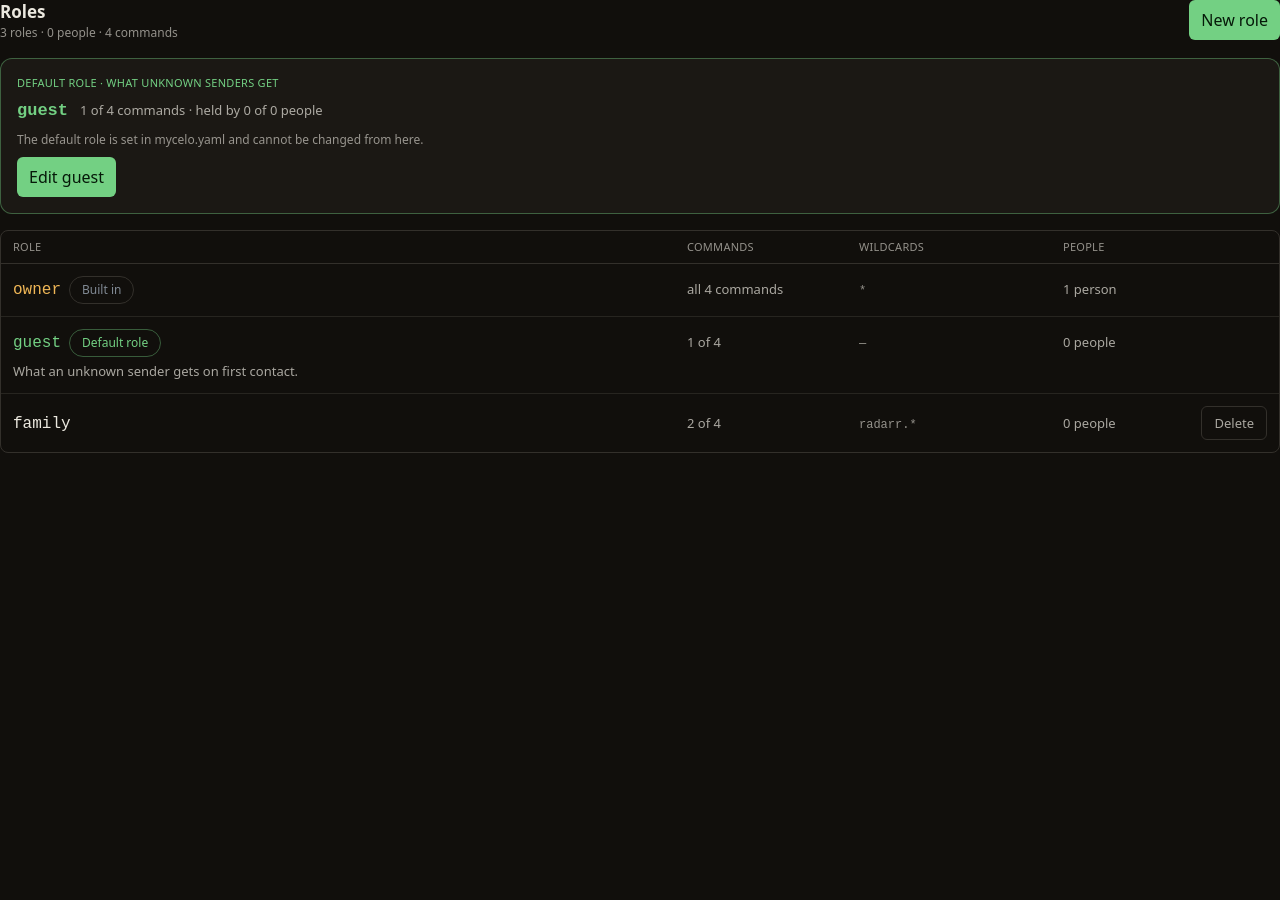
it: the roles list › creates a role with the name typed, then lists it
The width and height of the screenshot is (1280, 900).
Check: the list item with test id "role-owner" is shown, box top-left (1, 264), bottom-right (1279, 317)
Click the button "New role".
click(1235, 20)  # box top-left (1189, 0), bottom-right (1279, 40)
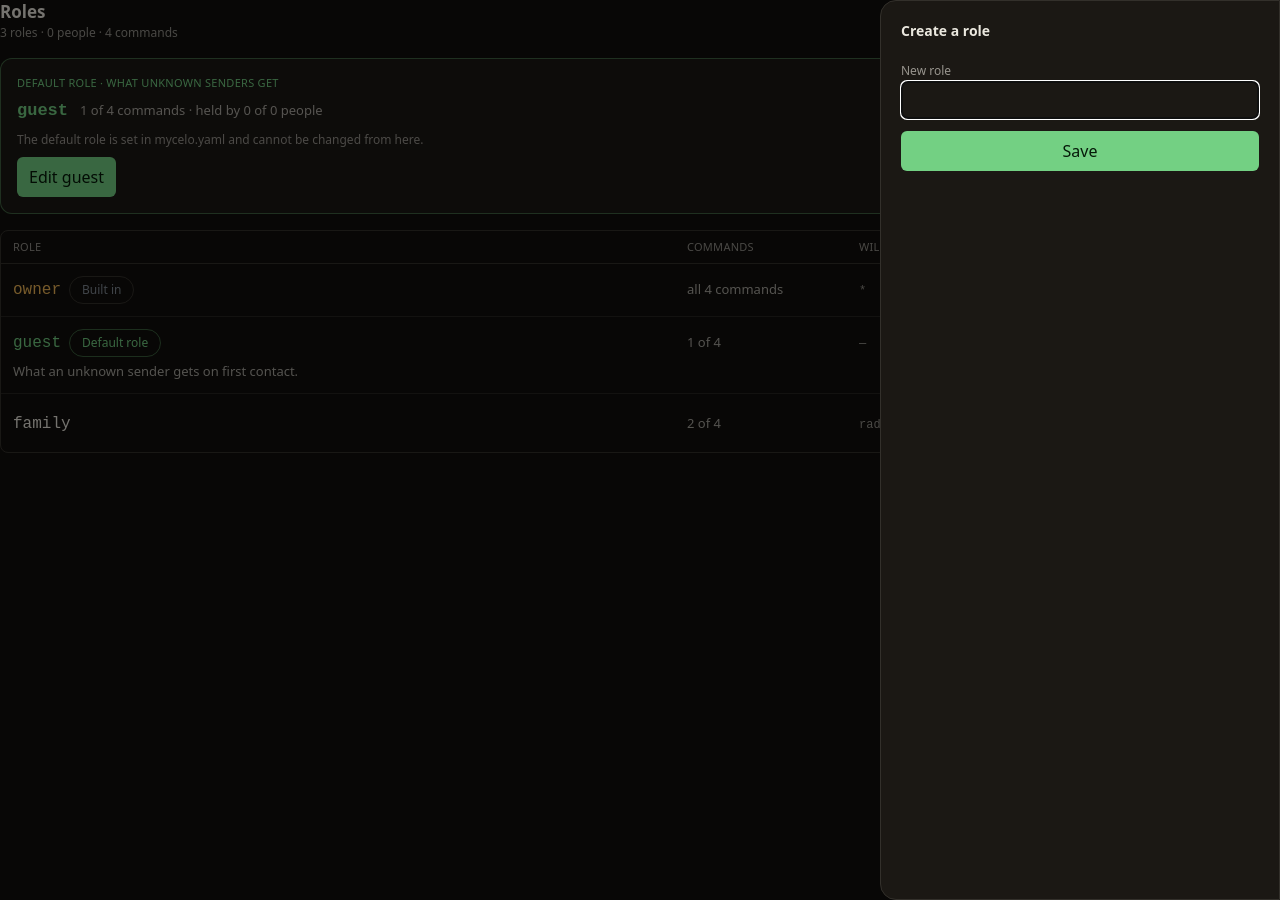
Type "media" into the field labelled "New role".
click(1080, 100); type("media")  # box top-left (901, 81), bottom-right (1259, 119)
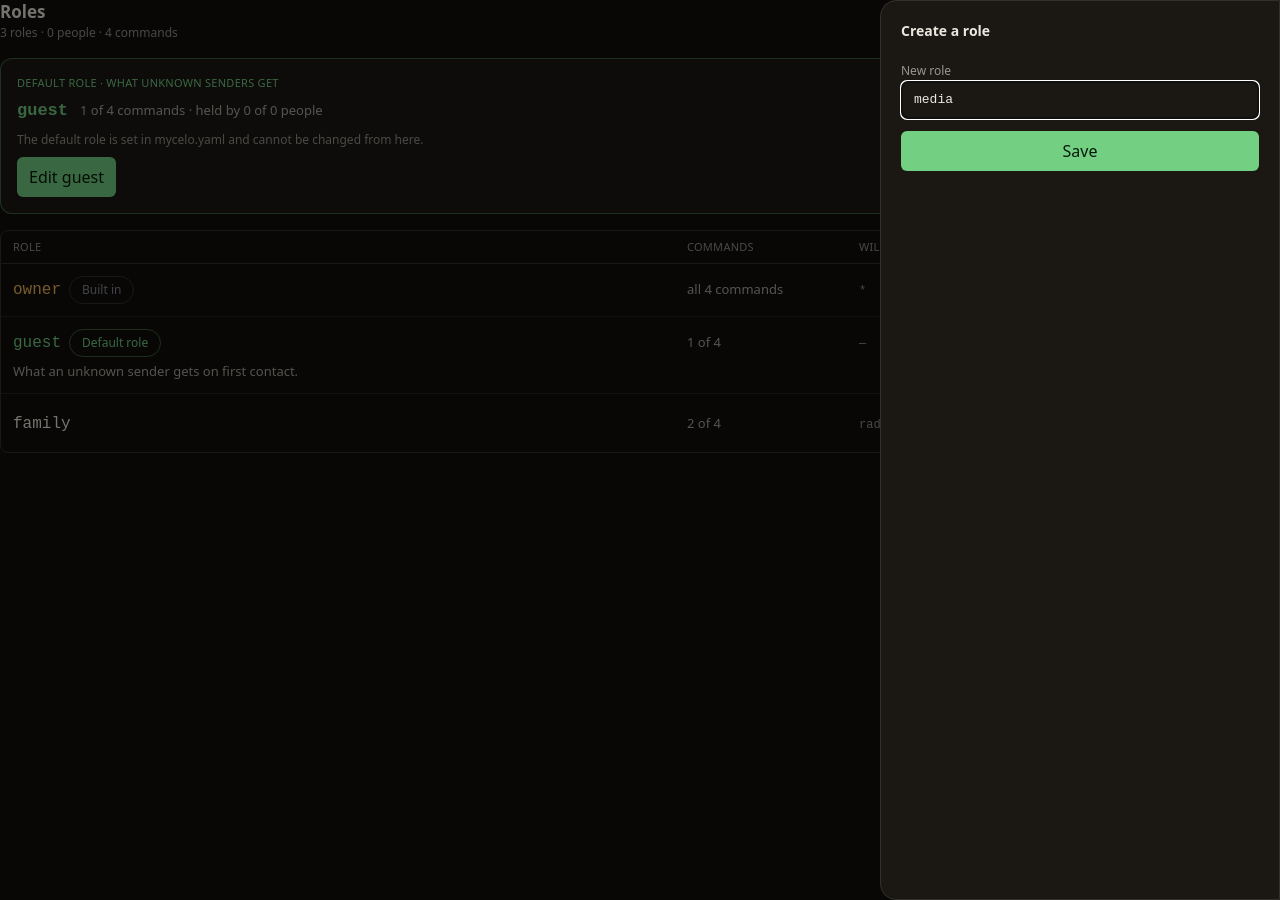
Click the button "Save".
click(1080, 151)  # box top-left (901, 131), bottom-right (1259, 171)
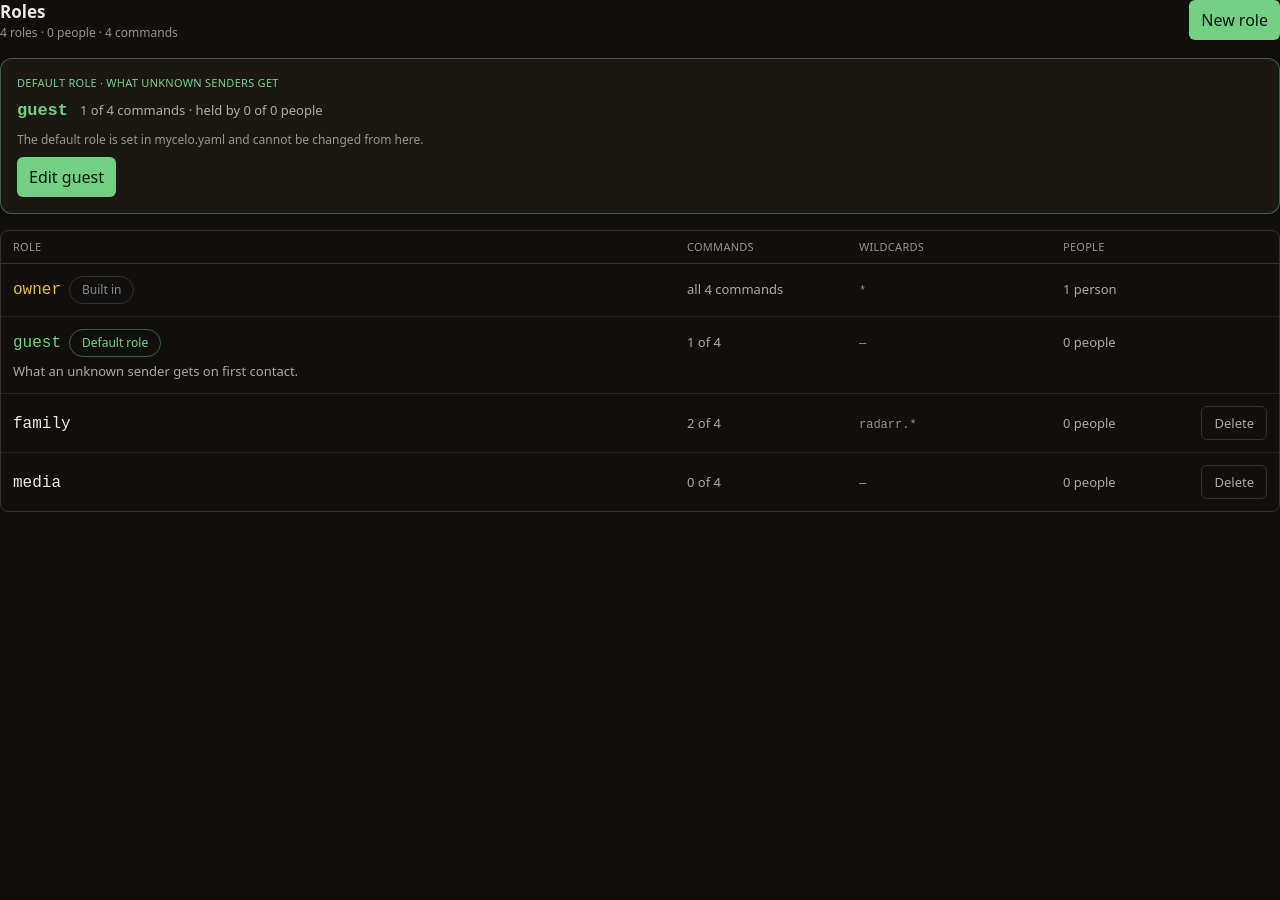
Check: the list item with test id "role-media" is shown, box top-left (13, 465), bottom-right (1267, 499)
